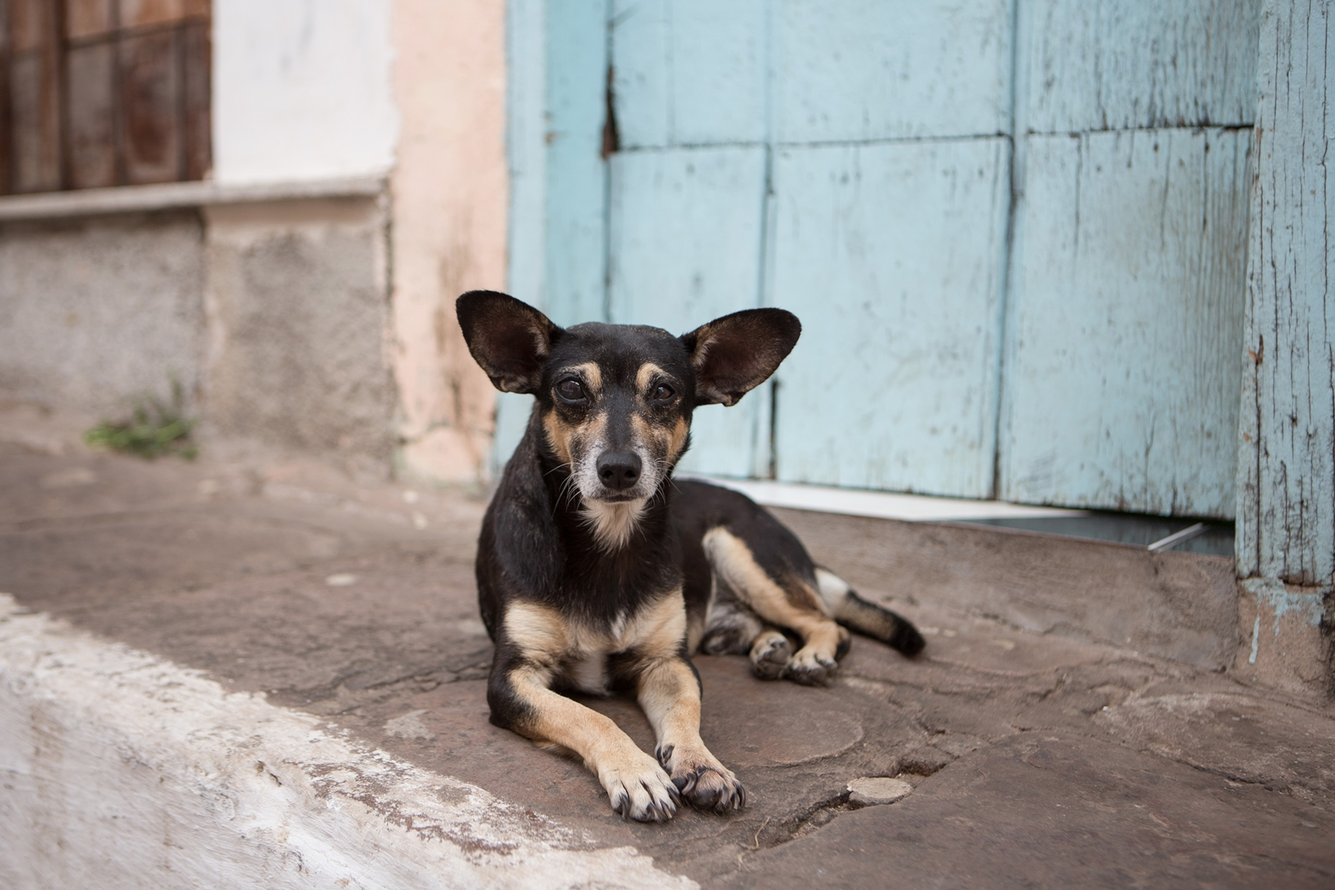Dog: (381, 249, 954, 820)
